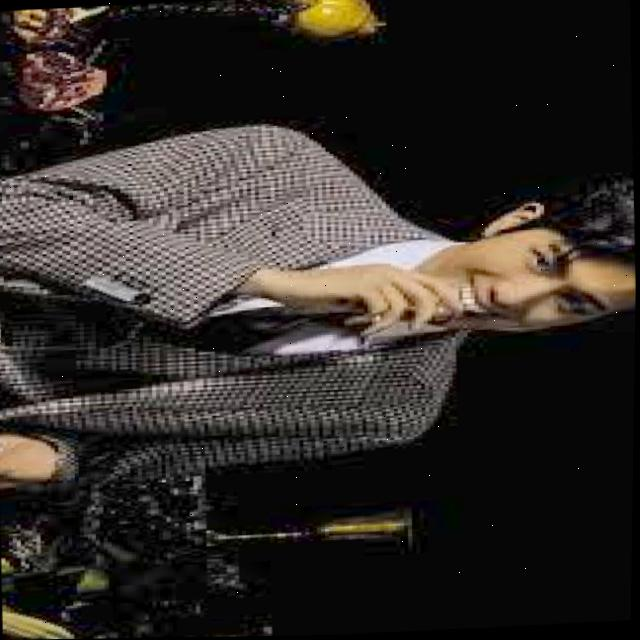happy: (299, 165, 638, 351)
